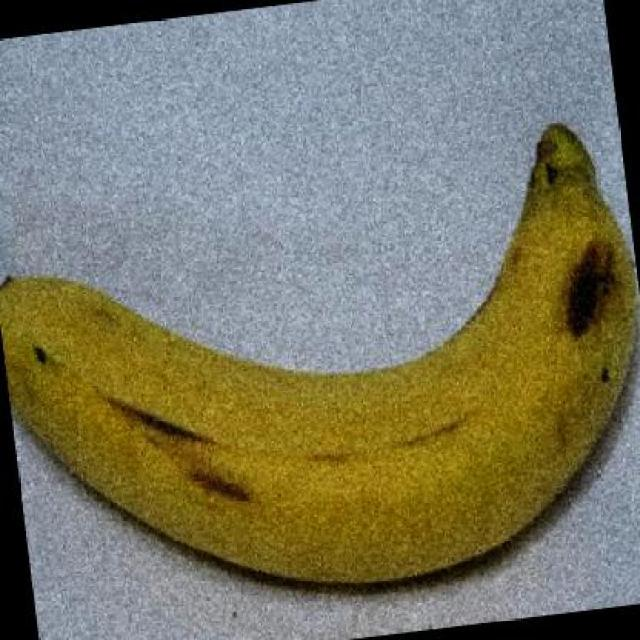ripe: (0, 116, 640, 604)
